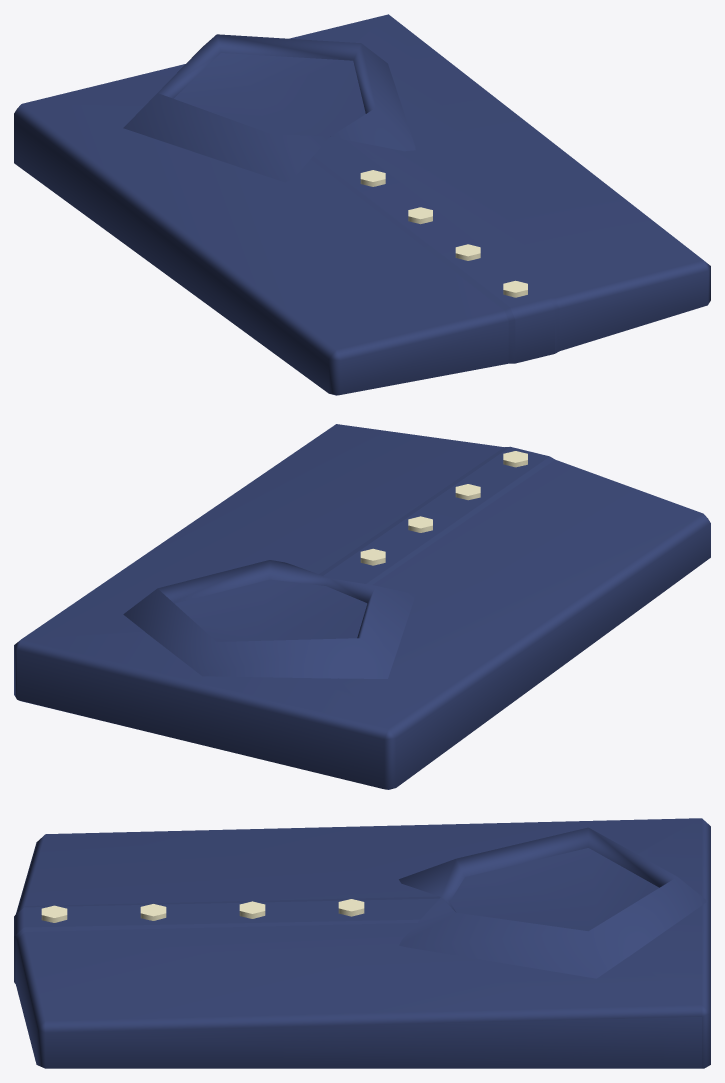
File: SM_Shirt_Single_1_03.fbx
3 views of the same model, one above another, from view 1: azimuth 30°, elevation 25°; view 2: azimuth 150°, elevation 25°; view 3: azimuth 270°, elevation 25° (orthographic). The views are drawn at different scales.
Visible parts, largest first — view 1: SM_Shirt_Single_1_03; view 2: SM_Shirt_Single_1_03; view 3: SM_Shirt_Single_1_03.
Boxes of the visible parts, left/top/right/bottom form: SM_Shirt_Single_1_03: left=14, top=14, right=710, bottom=395; SM_Shirt_Single_1_03: left=14, top=424, right=710, bottom=789; SM_Shirt_Single_1_03: left=14, top=818, right=710, bottom=1068.
Size of the model in its own units: 25.62 by 6.06 by 38.82.
